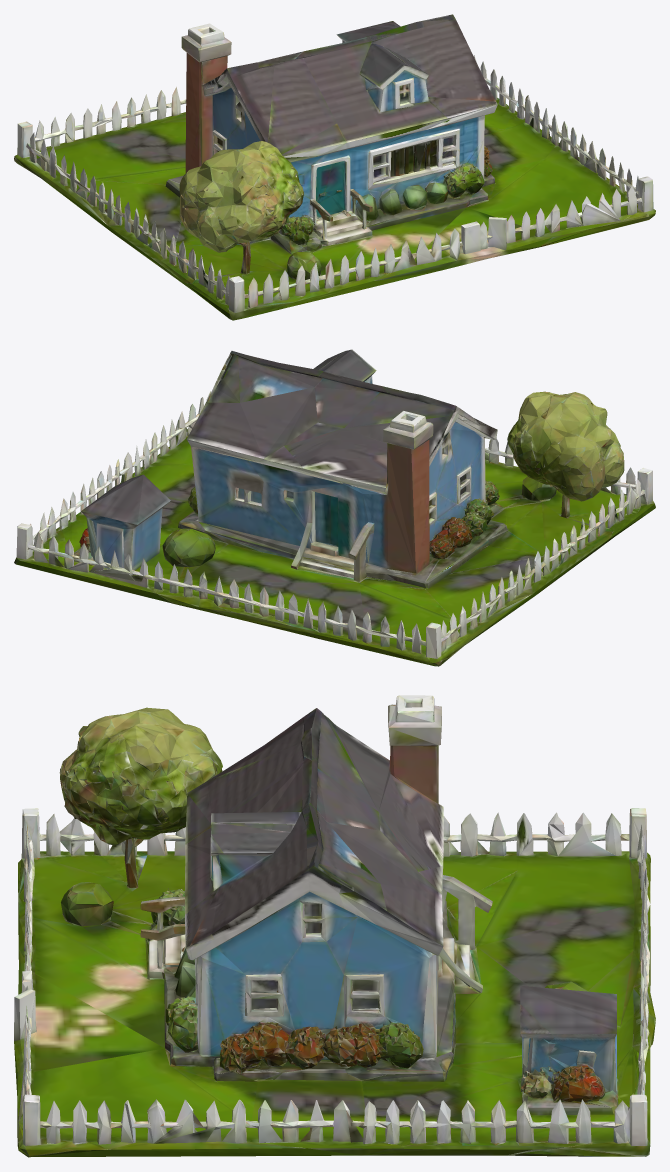
File: town_house_modern_2.glb
3 views of the same model, one above another, from view 1: azimuth 30°, elevation 25°; view 2: azimuth 150°, elevation 25°; view 3: azimuth 270°, elevation 25° (orthographic). The views are drawn at different scales.
Visible parts, largest first — view 1: normalize; view 2: normalize; view 3: normalize.
Boxes of the visible parts, <box> form: normalize: <box>14,14,655,320</box>; normalize: <box>14,349,655,666</box>; normalize: <box>14,695,655,1157</box>.
Size of the model in its own units: 1 by 0.3684 by 0.9067.
Materials: 1 (1 with a texture image).
